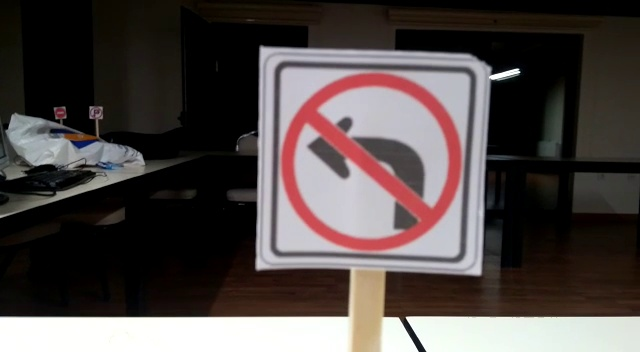sola_donulmez: (261, 62, 479, 262)
